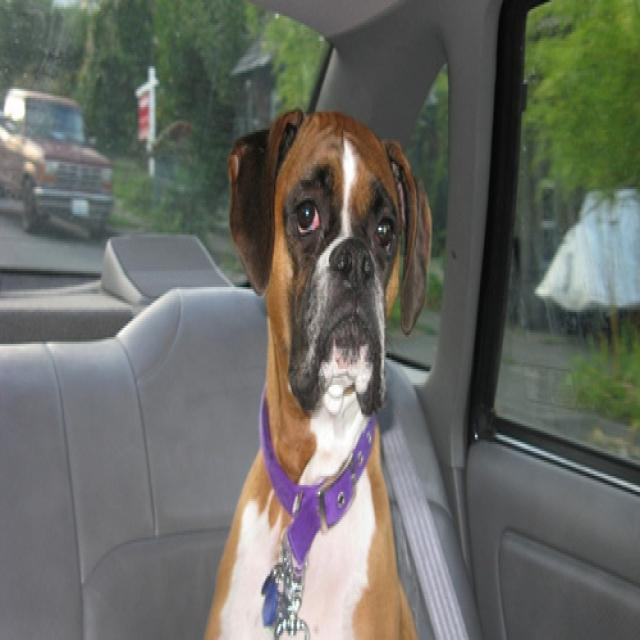dog: (224, 114, 433, 412)
